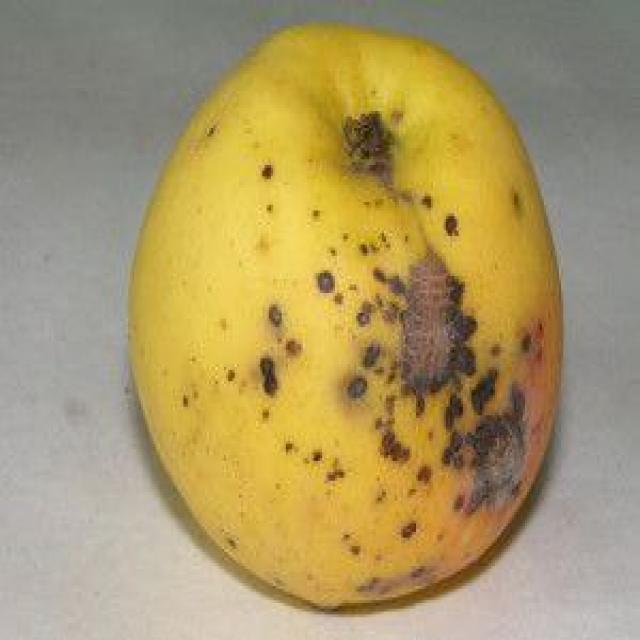Rotten: (134, 25, 564, 605)
